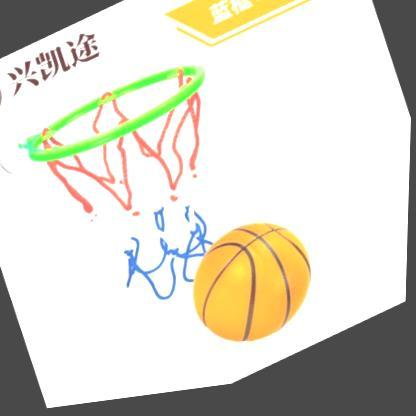basketball: (176, 205, 332, 375)
